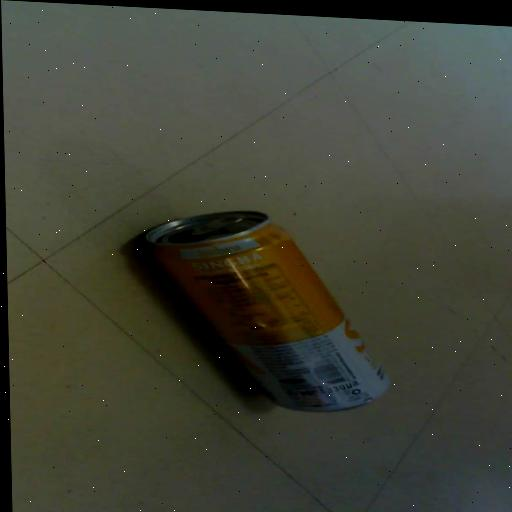canned: (106, 190, 405, 429)
